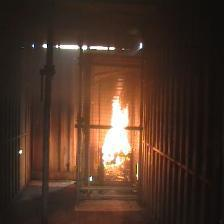fire: (89, 93, 135, 169)
